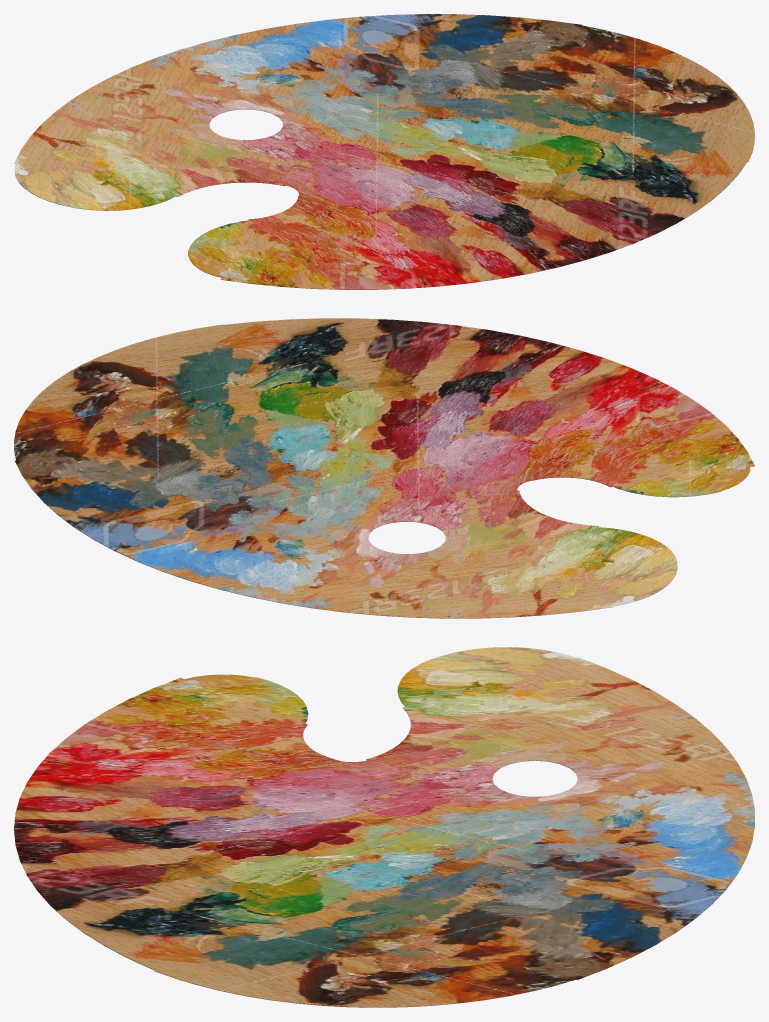
Rendered from Palette painting N190418.obj.
3 views of the same model, one above another, from view 1: azimuth 30°, elevation 25°; view 2: azimuth 150°, elevation 25°; view 3: azimuth 270°, elevation 25° (orthographic). The views are drawn at different scales.
Visible parts, largest first — view 1: room_2_4, room_1_2, wall_6_19, wall_6_20, wall_5_13, room_4_8, wall_5_14, room_3_6, wall_7_25, wall_7_26, wall_10_43, wall_12_55 (+11 smaller); view 2: room_2_4, room_1_2, wall_6_19, wall_5_13, room_4_8, wall_5_14, wall_6_20, room_3_6, wall_7_25, wall_7_26, wall_10_44, wall_12_55 (+10 smaller); view 3: room_2_4, room_1_2, wall_6_19, wall_6_20, wall_5_13, wall_5_14, room_4_8, room_3_6, wall_7_25, wall_7_26, wall_10_43, wall_10_44 (+10 smaller).
Boxes of the visible parts, x1,y1,x2,y2 form: room_2_4: [178, 29, 717, 273]; room_1_2: [51, 106, 228, 196]; wall_6_19: [14, 14, 581, 164]; wall_6_20: [32, 22, 575, 166]; wall_5_13: [221, 148, 753, 289]; room_4_8: [99, 64, 256, 129]; wall_5_14: [227, 147, 734, 281]; room_3_6: [203, 140, 323, 178]; wall_7_25: [573, 25, 754, 161]; wall_7_26: [565, 33, 736, 159]; wall_10_43: [148, 166, 300, 191]; wall_12_55: [251, 196, 335, 234]; room_2_4: [53, 335, 713, 592]; room_1_2: [420, 528, 646, 601]; wall_6_19: [15, 459, 613, 618]; wall_5_13: [194, 318, 754, 467]; room_4_8: [324, 549, 451, 605]; wall_5_14: [200, 326, 732, 464]; wall_6_20: [34, 458, 606, 609]; room_3_6: [404, 480, 541, 544]; wall_7_25: [14, 324, 225, 460]; wall_7_26: [33, 333, 234, 459]; wall_10_44: [499, 490, 598, 533]; wall_12_55: [515, 460, 636, 481]; room_2_4: [57, 692, 711, 988]; room_1_2: [440, 665, 660, 762]; wall_6_19: [564, 657, 754, 979]; wall_6_20: [550, 664, 733, 972]; wall_5_13: [14, 677, 194, 979]; wall_5_14: [35, 684, 207, 972]; room_4_8: [559, 728, 728, 801]; room_3_6: [364, 733, 516, 799]; wall_7_25: [154, 964, 578, 1007]; wall_7_26: [169, 957, 563, 998]; wall_10_43: [379, 701, 453, 774]; wall_10_44: [367, 704, 432, 766].
Bounding box in the file's own units: 501 × 0.3175 × 436.
